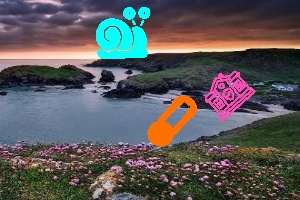房子: (206, 71, 256, 119)
手电筒: (148, 95, 198, 147)
蜗牛: (96, 6, 149, 59)
